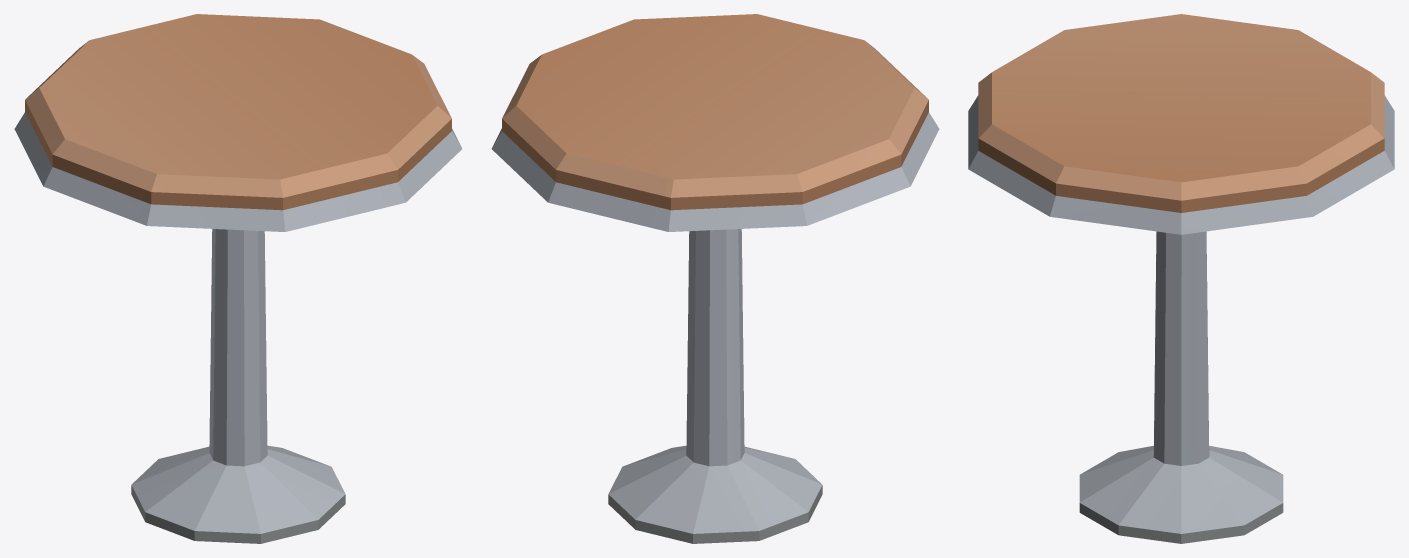
File: TableRound_Mesh.fbx
3 renders of one model, left to right at view 1: azimuth 30°, elevation 25°; view 2: azimuth 150°, elevation 25°; view 3: azimuth 270°, elevation 25°, orthographic.
Parts seen in each view (by area): view 1: TableRound_Mesh; view 2: TableRound_Mesh; view 3: TableRound_Mesh.
Boxes of the visible parts, x1,y1,x2,y2 form: TableRound_Mesh: [14, 14, 462, 543]; TableRound_Mesh: [491, 14, 939, 543]; TableRound_Mesh: [968, 14, 1394, 543].
Size of the model in its own units: 94.9 by 93.58 by 90.25.
1 material, 1 textured.
